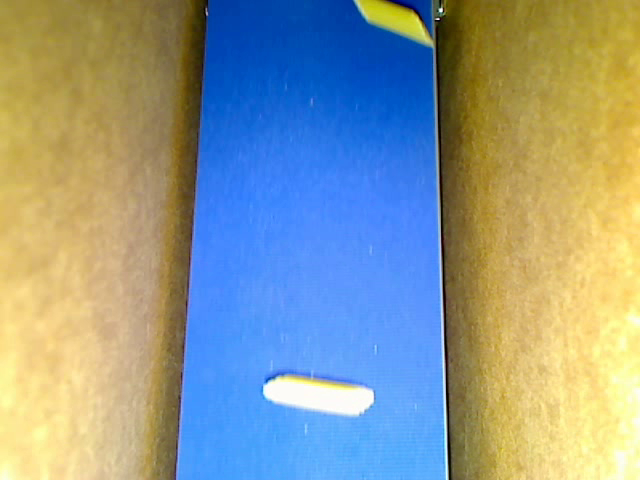penne: (257, 374, 373, 417), (342, 1, 437, 51)
